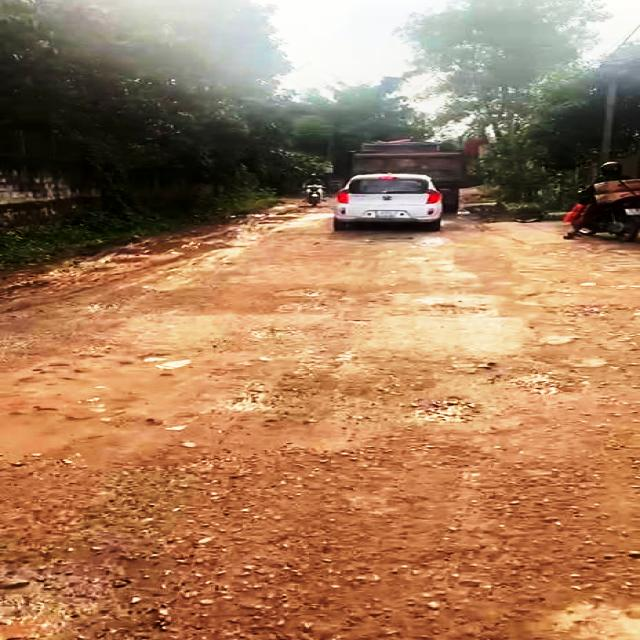pothole: (0, 542, 197, 640), (403, 398, 488, 426), (512, 371, 582, 396)
